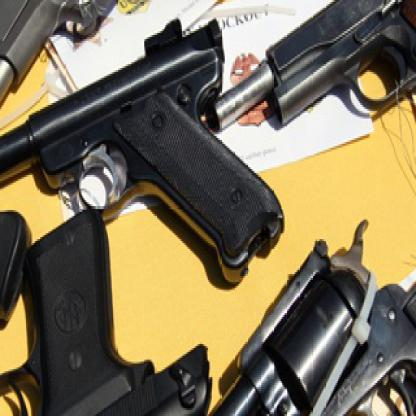gun: (0, 21, 289, 286), (40, 210, 415, 414), (0, 212, 224, 414), (0, 0, 268, 134), (217, 0, 415, 165)
